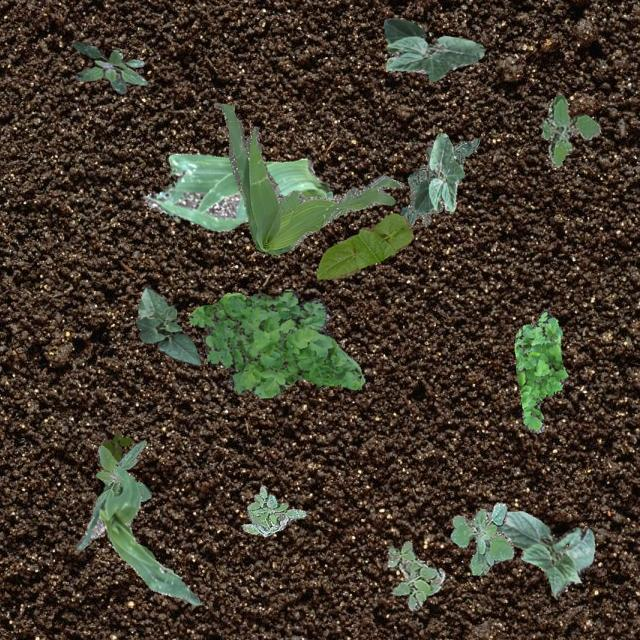crop: (76, 464, 202, 604), (143, 152, 331, 230), (496, 509, 594, 596), (316, 212, 412, 278), (382, 18, 482, 80), (134, 286, 200, 364), (412, 132, 463, 212)
weed: (218, 102, 402, 254), (188, 288, 364, 396), (399, 137, 478, 225), (514, 310, 566, 432), (90, 439, 150, 518), (450, 500, 512, 574), (542, 94, 600, 166), (386, 540, 444, 610), (72, 40, 146, 94), (240, 484, 304, 536), (100, 428, 132, 462)
